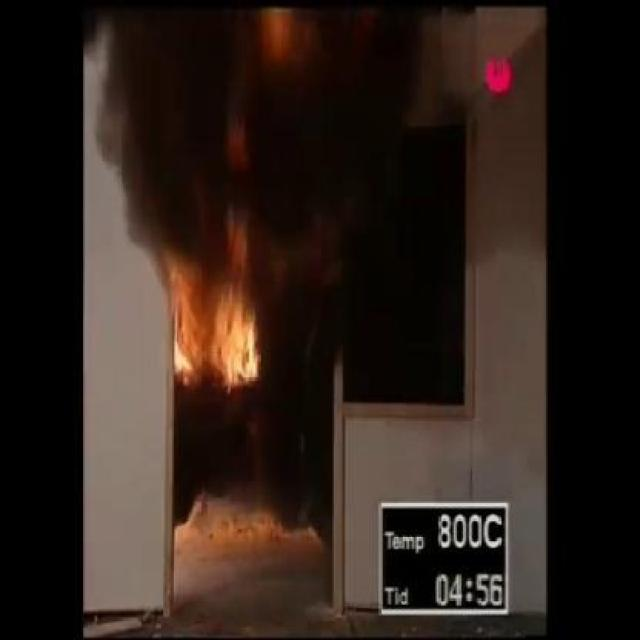fire: (250, 8, 421, 282), (85, 5, 231, 268)
smoke: (167, 266, 266, 391)
